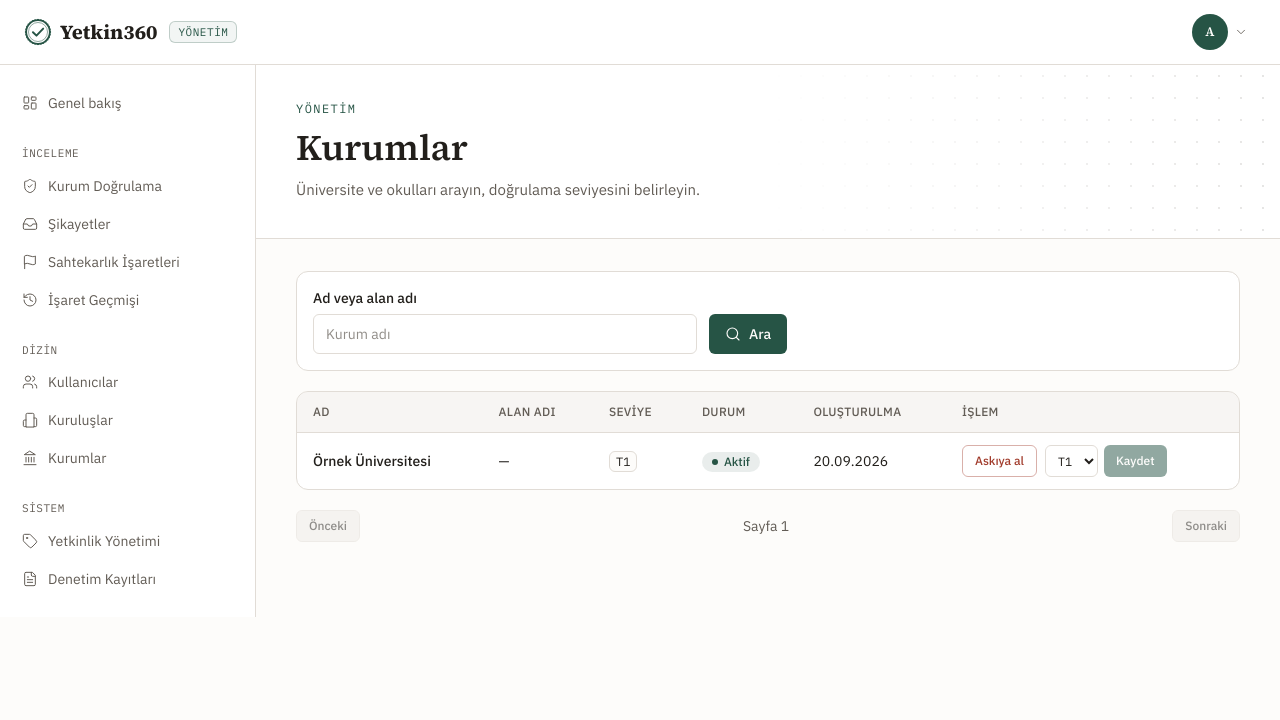
Test case: KurumlarPage (/admin/kurumlar) › shows not-found when the institution disappeared
Select "T2" in the dropdown: (1072, 461) [1045,445,1098,477]
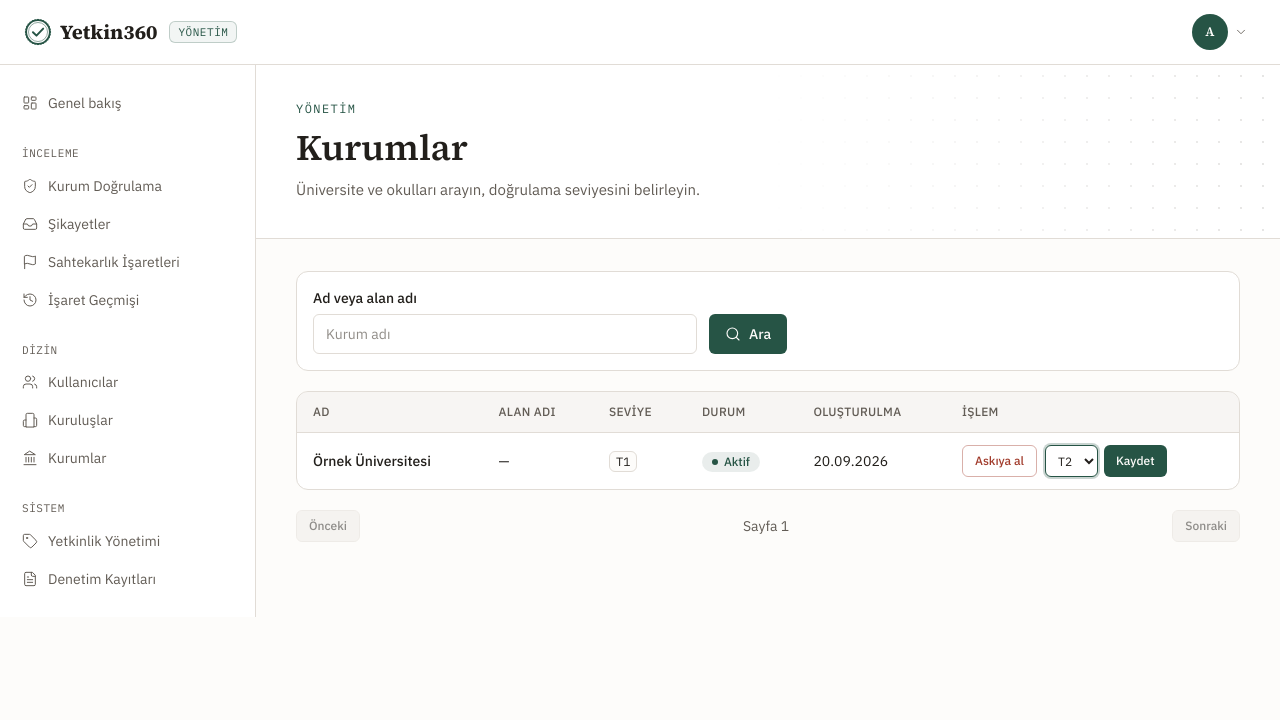
Click the button "Kaydet": (1135, 461) [1104,445,1166,477]
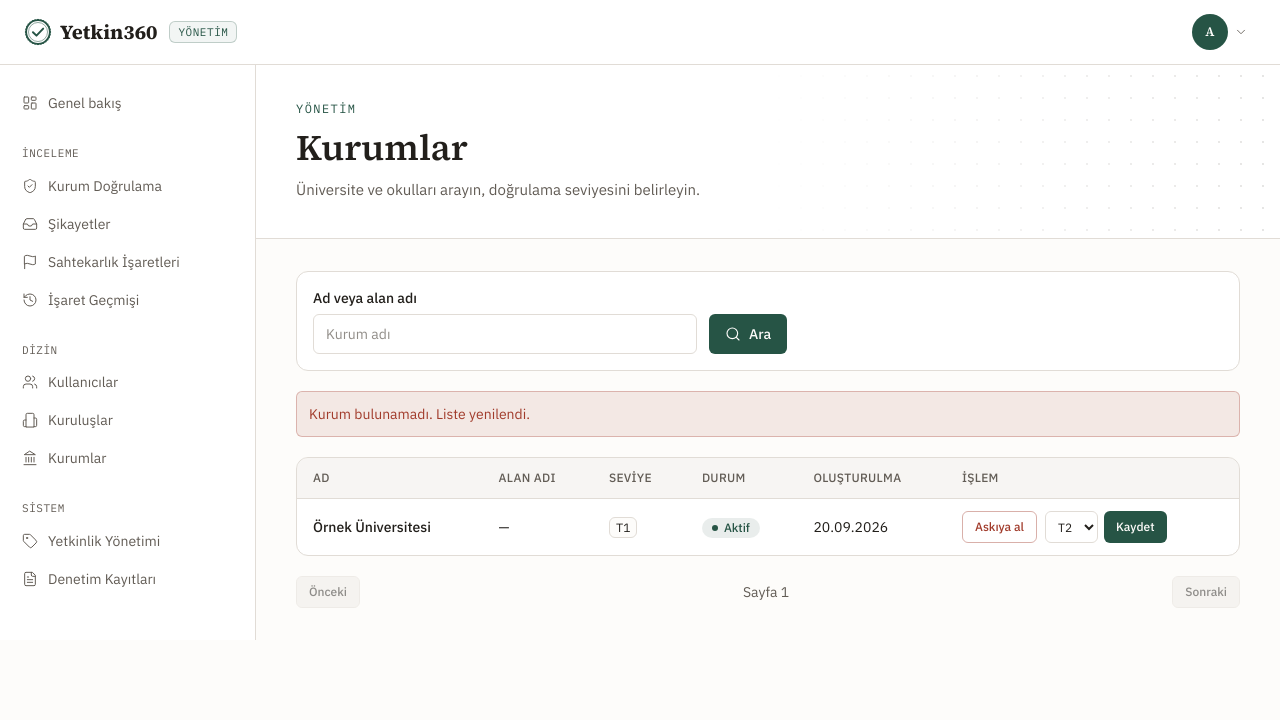
Now the text "Kurum bulunamadı. Liste yenilendi." is shown, box [296,391,1240,437]
